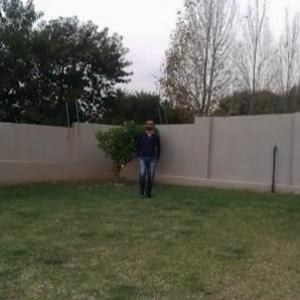follow: (137, 120, 157, 201)
